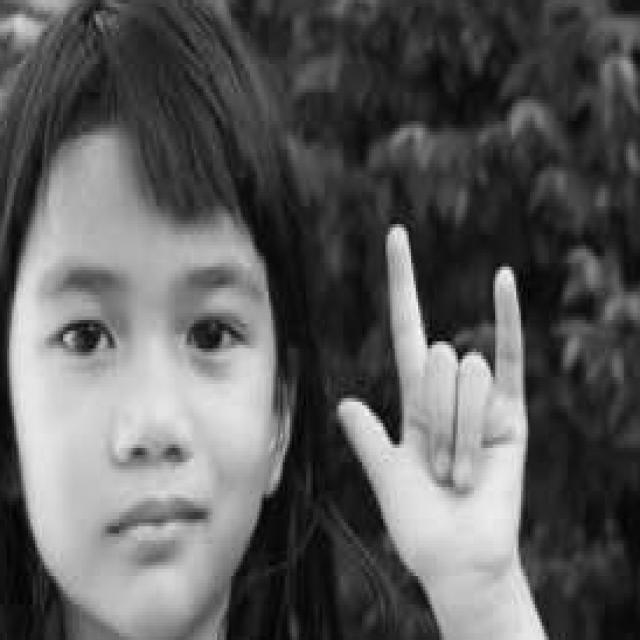i love you: (331, 212, 538, 591)
